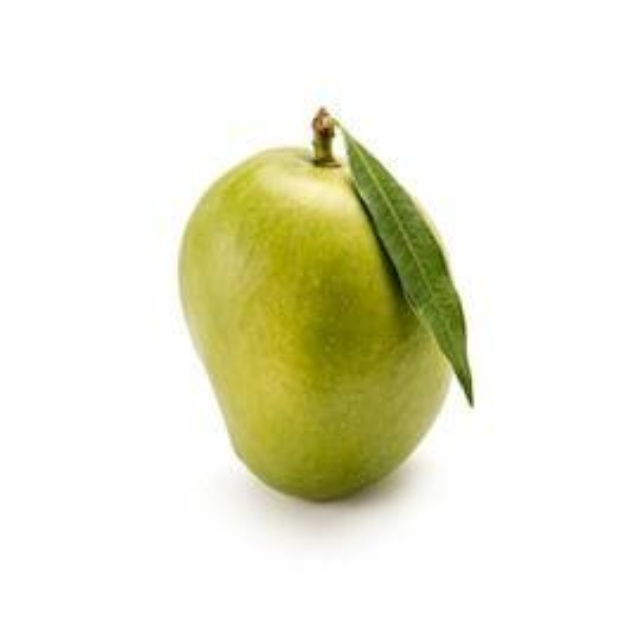mango: (180, 114, 460, 505)
